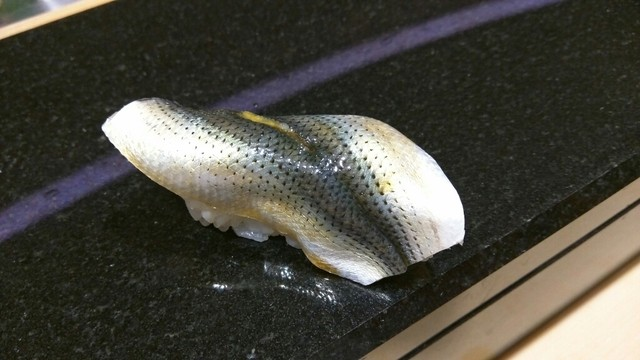spotted-shad: (97, 92, 473, 289)
